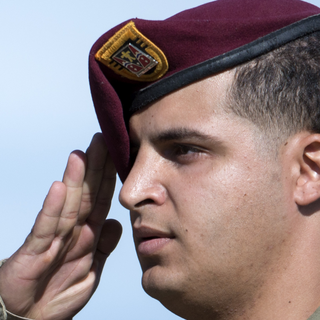eye: (164, 140, 216, 162)
